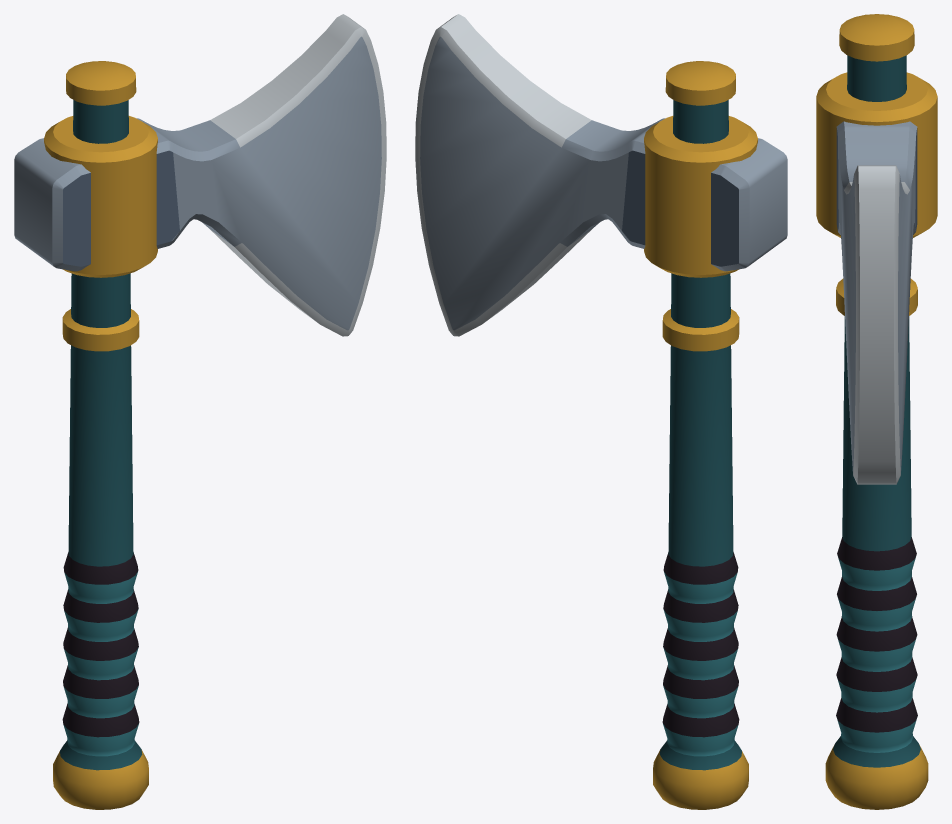
Rendered from Axe_10.glb.
3 views of the same model, side by side, from view 1: azimuth 30°, elevation 25°; view 2: azimuth 150°, elevation 25°; view 3: azimuth 270°, elevation 25° (orthographic). The views are drawn at different scales.
Parts seen in each view (by area): view 1: Axe_10; view 2: Axe_10; view 3: Axe_10.
Boxes of the visible parts, x1=… form: Axe_10: x1=14, y1=14, x2=386, y2=809; Axe_10: x1=415, y1=14, x2=787, y2=809; Axe_10: x1=816, y1=14, x2=937, y2=809.
Size of the model in its own units: 2.19 by 4.37 by 0.626.
